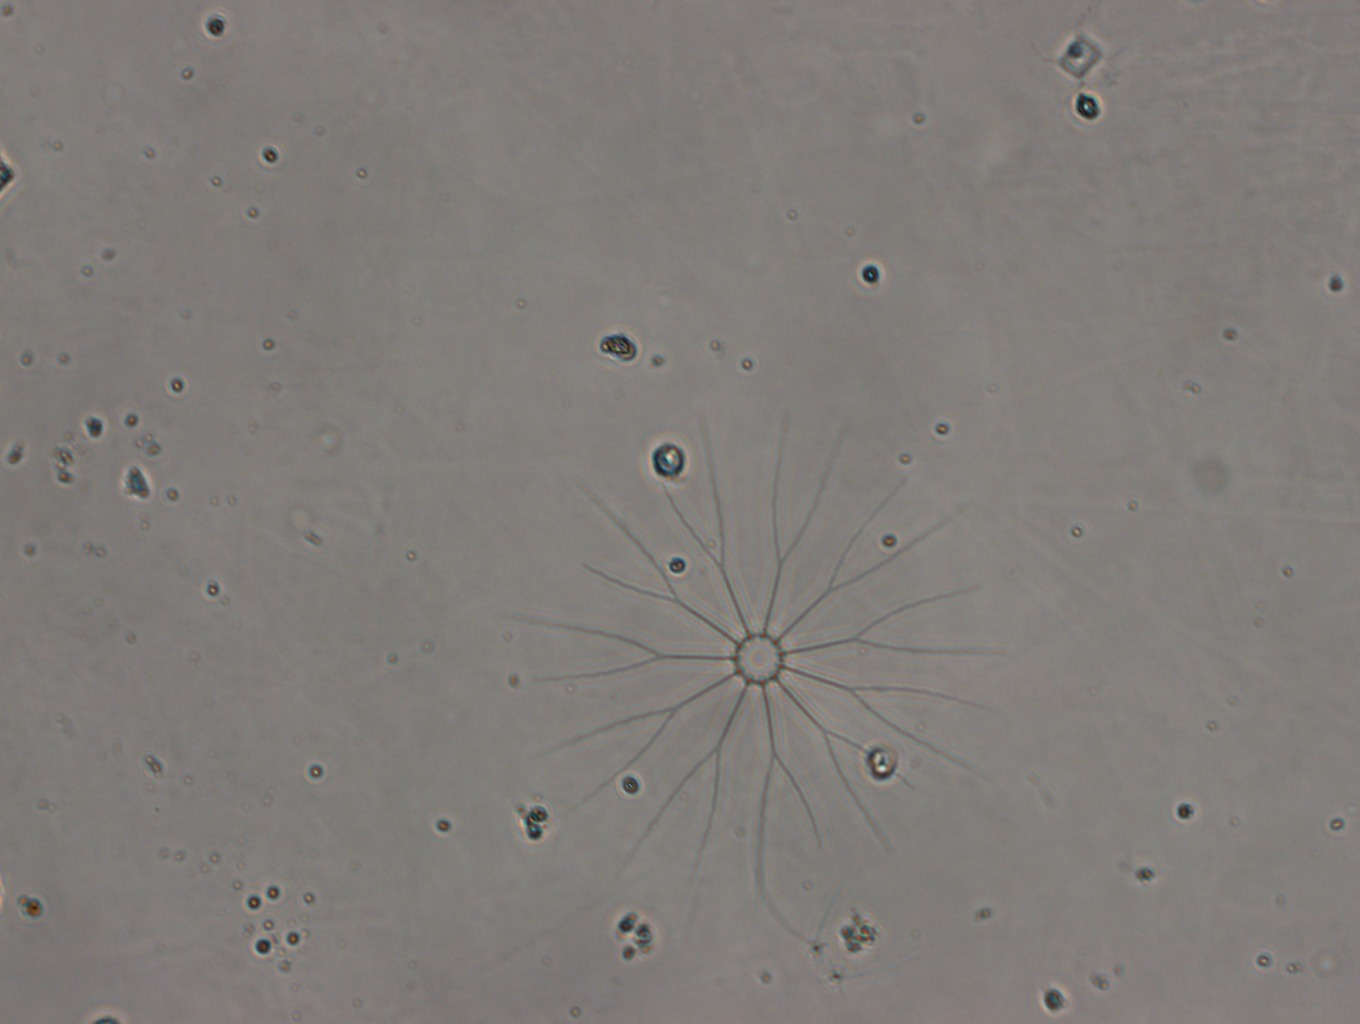bacteriastrum: (520, 416, 1003, 893)
